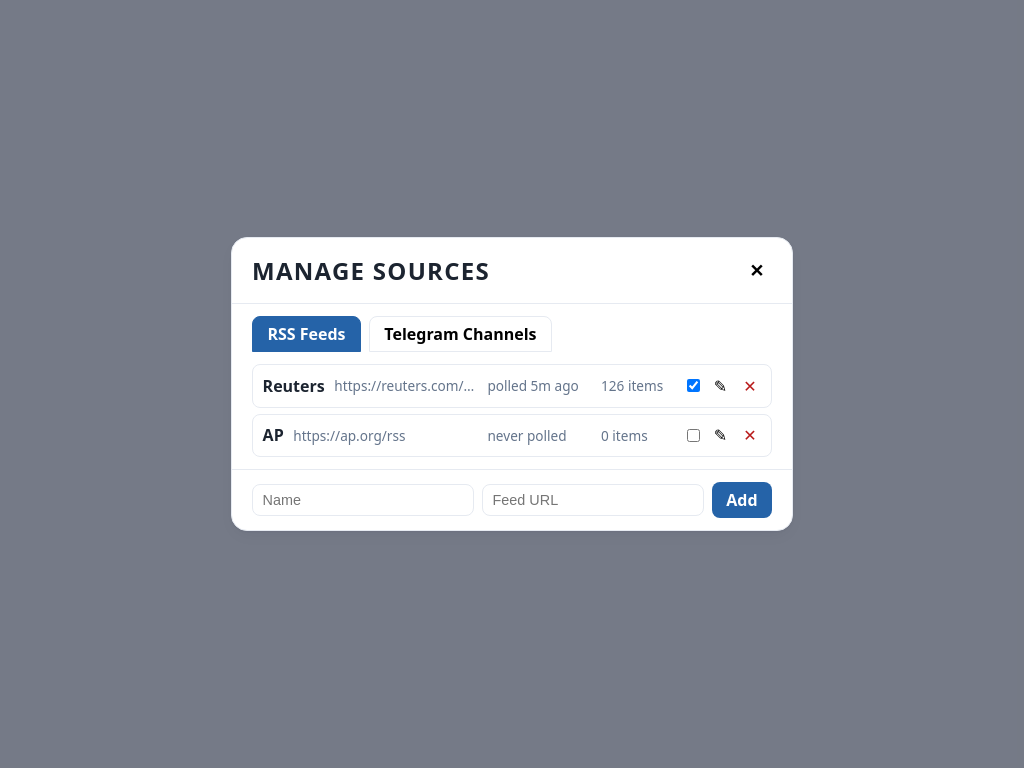
SourcesModal › a failed add shows the error and keeps the form values
The image size is (1024, 768).
Expected: the text "Reuters" is shown, [263,375,325,397]
Type "BBC" into the field with placeholder "Name". click: x=363, y=500
box: [252,484,474,516]
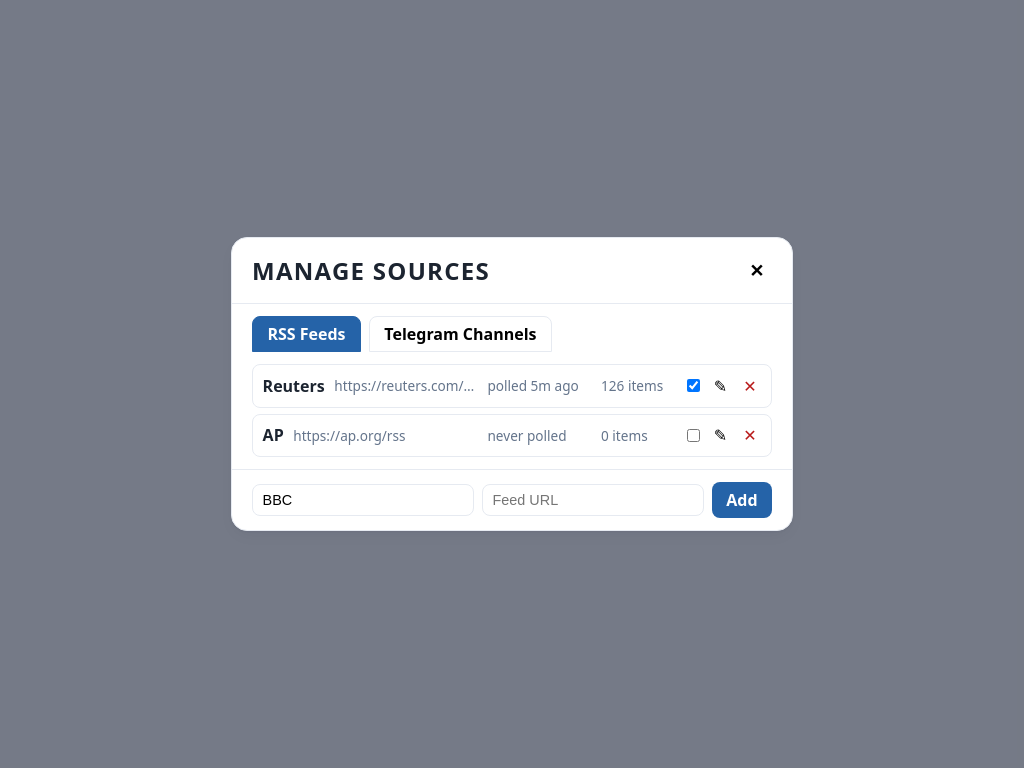
Type "https://bbc.com/rss" into the field with placeholder "Feed URL". click: x=593, y=500
box: [482,484,704,516]
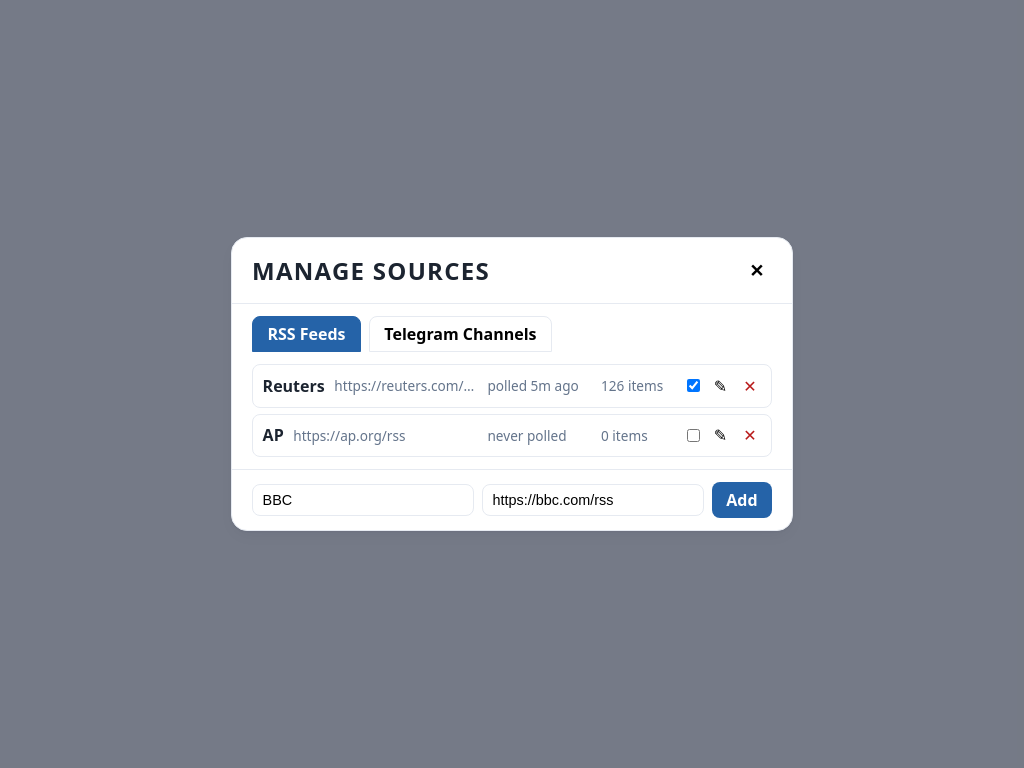
Click the button "Add". click: x=742, y=500
box: [712,482,772,518]
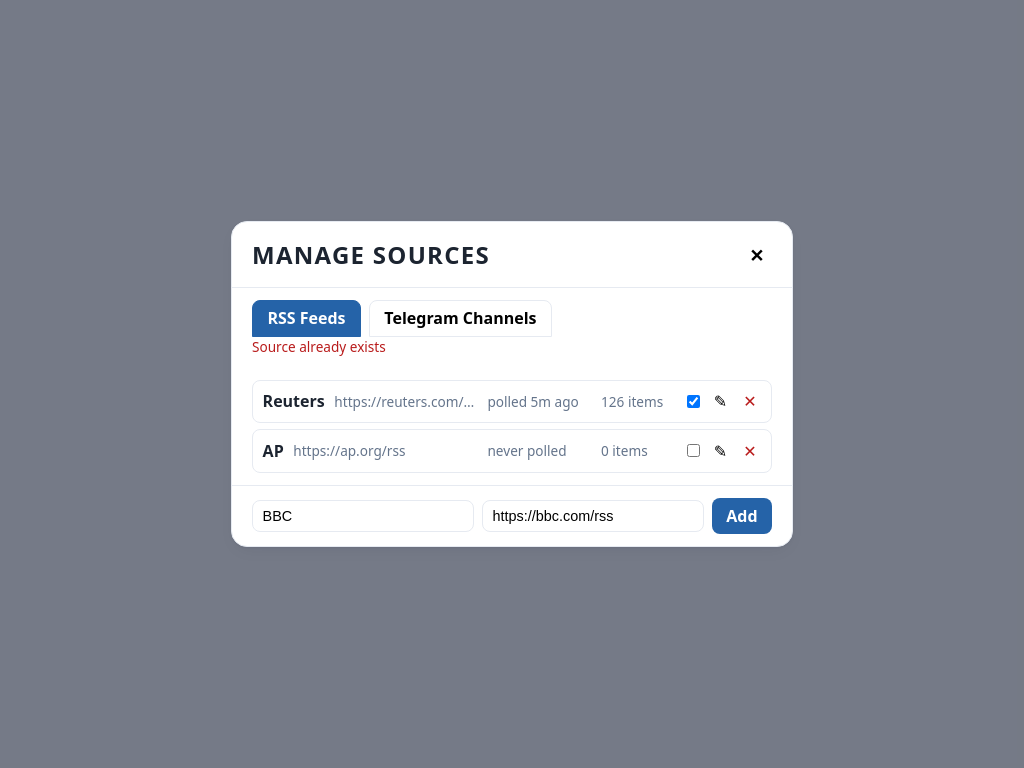
Result: the text "Source already exists" is shown at [252,337,386,356]
